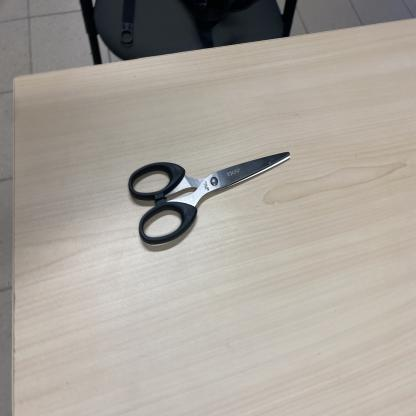scissors: (128, 150, 291, 246)
